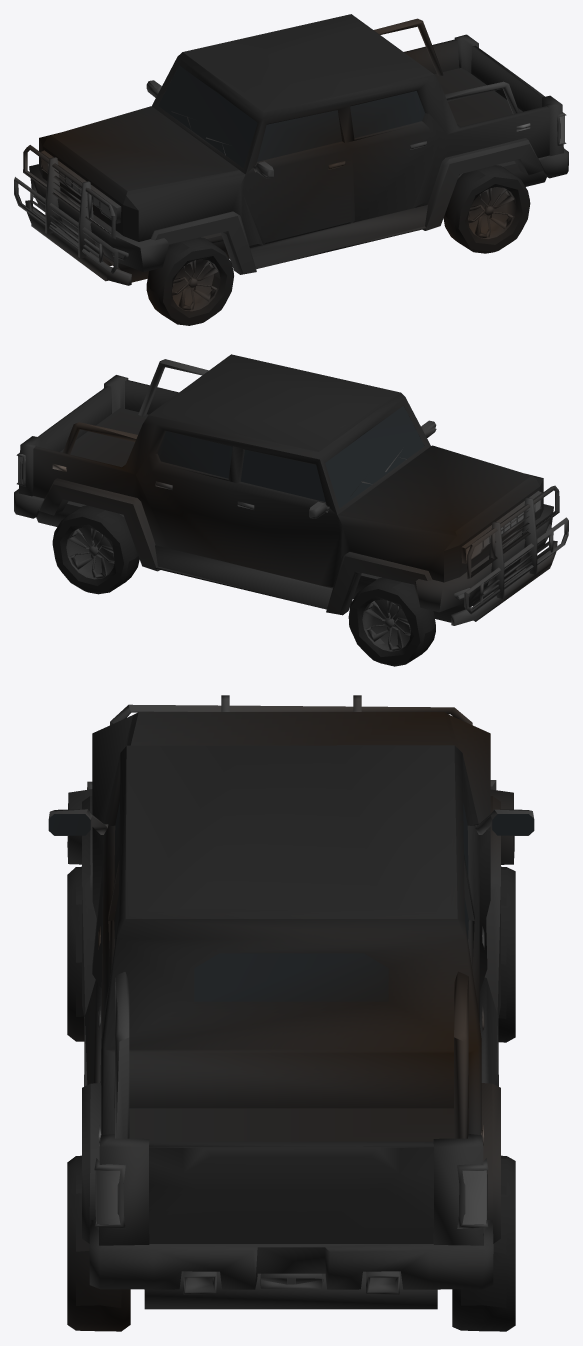
The model's file is city_car_1.glb.
3 views of the same model, one above another, from view 1: azimuth 30°, elevation 25°; view 2: azimuth 150°, elevation 25°; view 3: azimuth 270°, elevation 25° (orthographic). The views are drawn at different scales.
Parts seen in each view (by area): view 1: city_car_1; view 2: city_car_1; view 3: city_car_1.
Part boxes in pixels (box(x1,y1,x2,y2)): city_car_1: box(14, 14, 568, 325); city_car_1: box(14, 354, 568, 666); city_car_1: box(48, 695, 534, 1331).
Bounding box in the file's own units: 4.4 × 1.7 × 2.01.
Materials: 1 (1 with a texture image).
